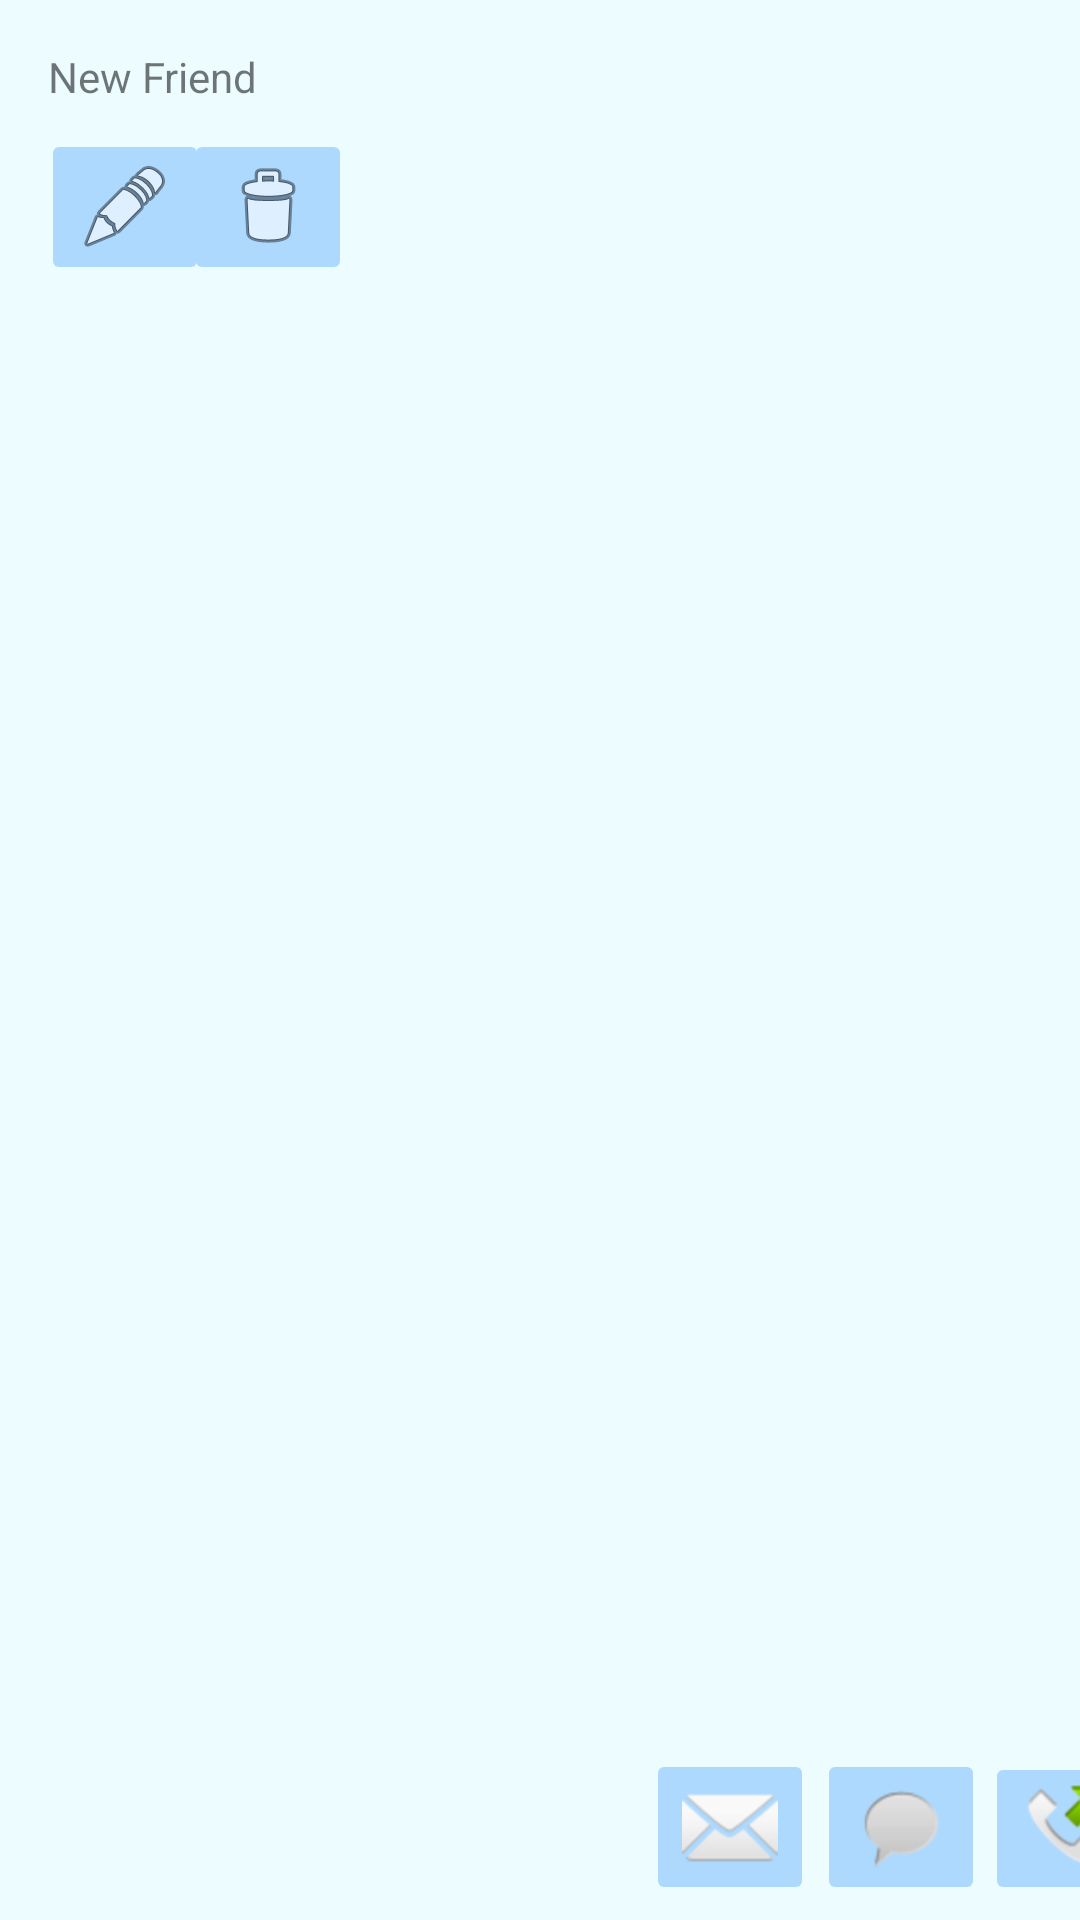

Named icons in this screenshot (1080×1920) and their centers, point (x, y):
delete: point (262, 207)
edit: point (131, 207)
email: point (730, 1827)
sym action chat: point (901, 1827)
